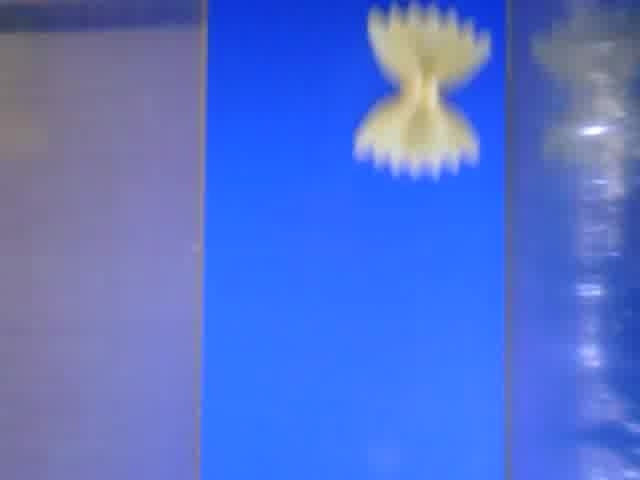farfalle: (352, 6, 491, 179)
